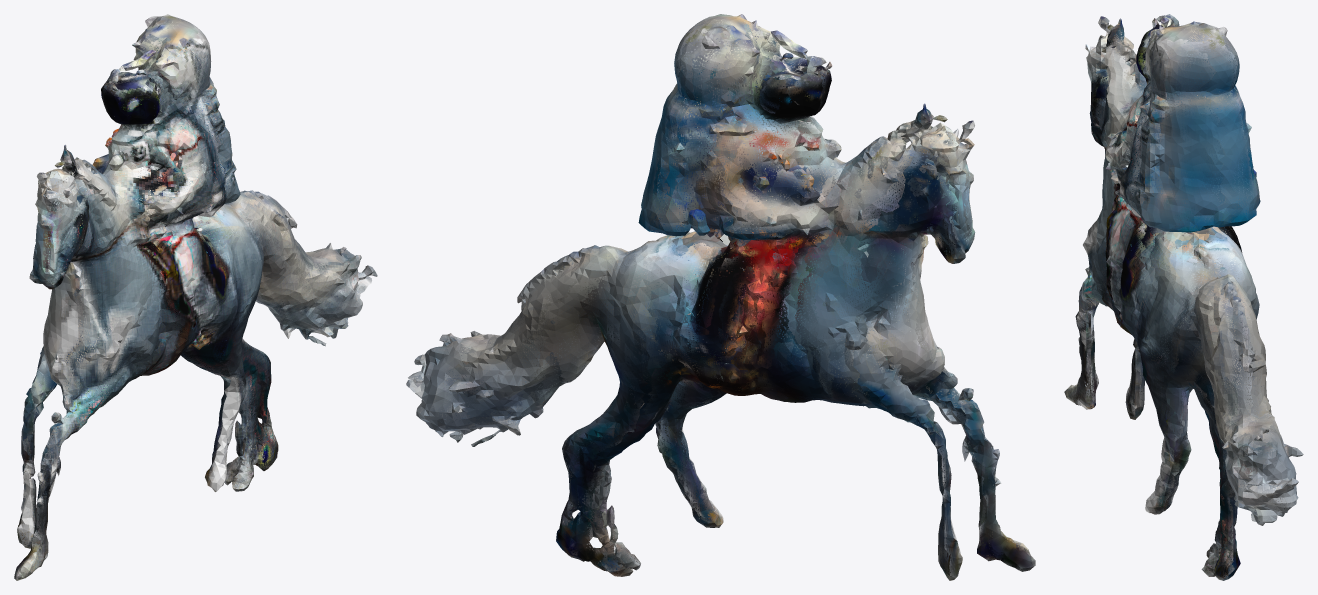
File: astronaut_002.glb
3 renders of one model, left to right at view 1: azimuth 30°, elevation 25°; view 2: azimuth 150°, elevation 25°; view 3: azimuth 270°, elevation 25°, orthographic. The views are drawn at different scales.
Bounding box in the file's own units: 1.34 × 1.4 × 0.597.
1 material, 1 textured.
